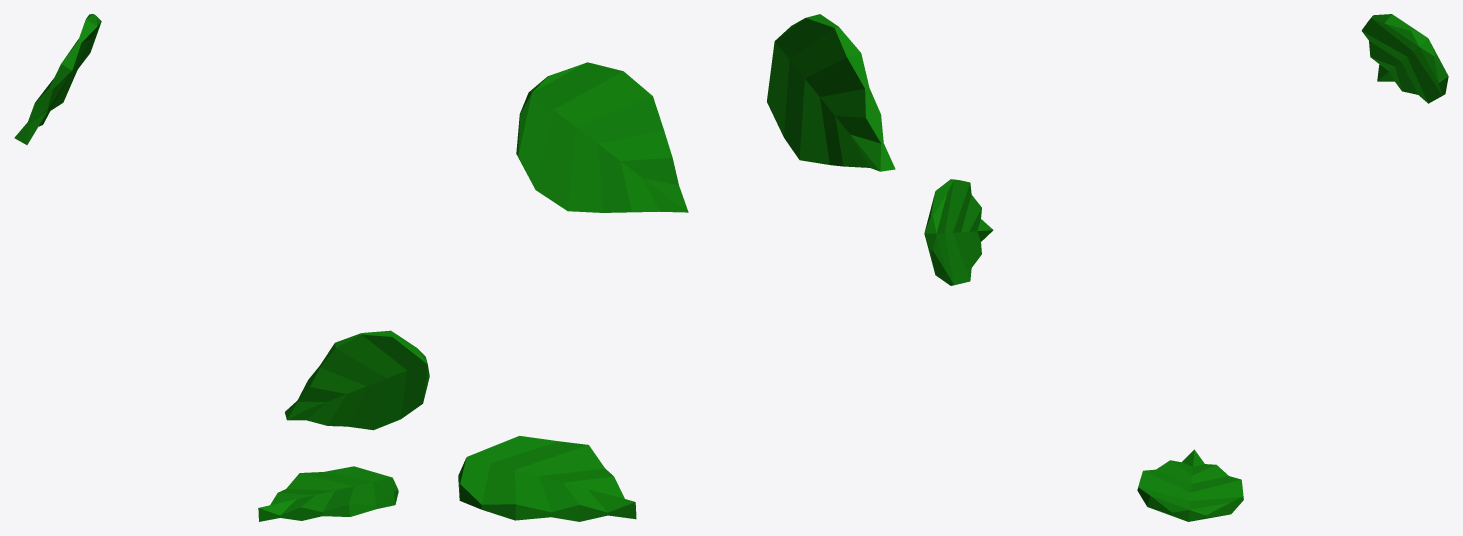
3 renders of one model, left to right at view 1: azimuth 30°, elevation 25°; view 2: azimuth 150°, elevation 25°; view 3: azimuth 270°, elevation 25°, orthographic. The views are drawn at different scales.
Visible parts, largest first — view 1: 平面; view 2: 平面; view 3: 平面.
Boxes of the visible parts, <box> form: 平面: <box>14,14,429,521</box>; 平面: <box>458,14,895,521</box>; 平面: <box>924,14,1448,521</box>.
Bounding box in the file's own units: 598 × 923 × 1050.
